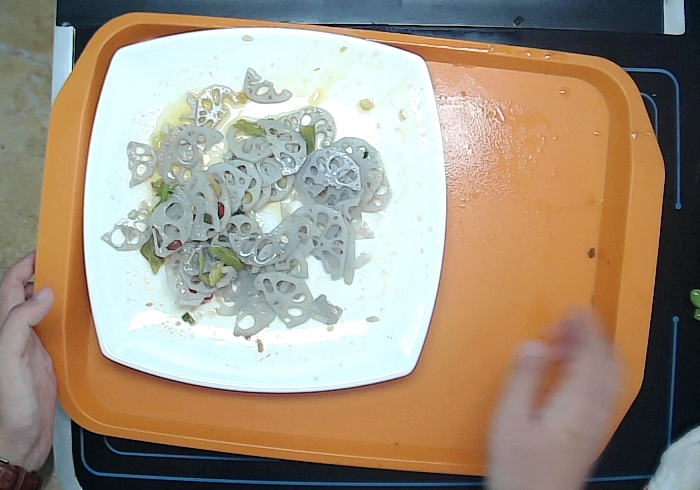ZNLD-Bai_Fang_Pan: (83, 27, 489, 393)
